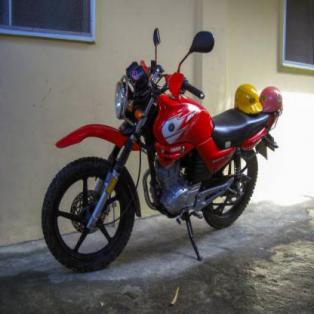Motocicleta: (39, 18, 286, 272)
